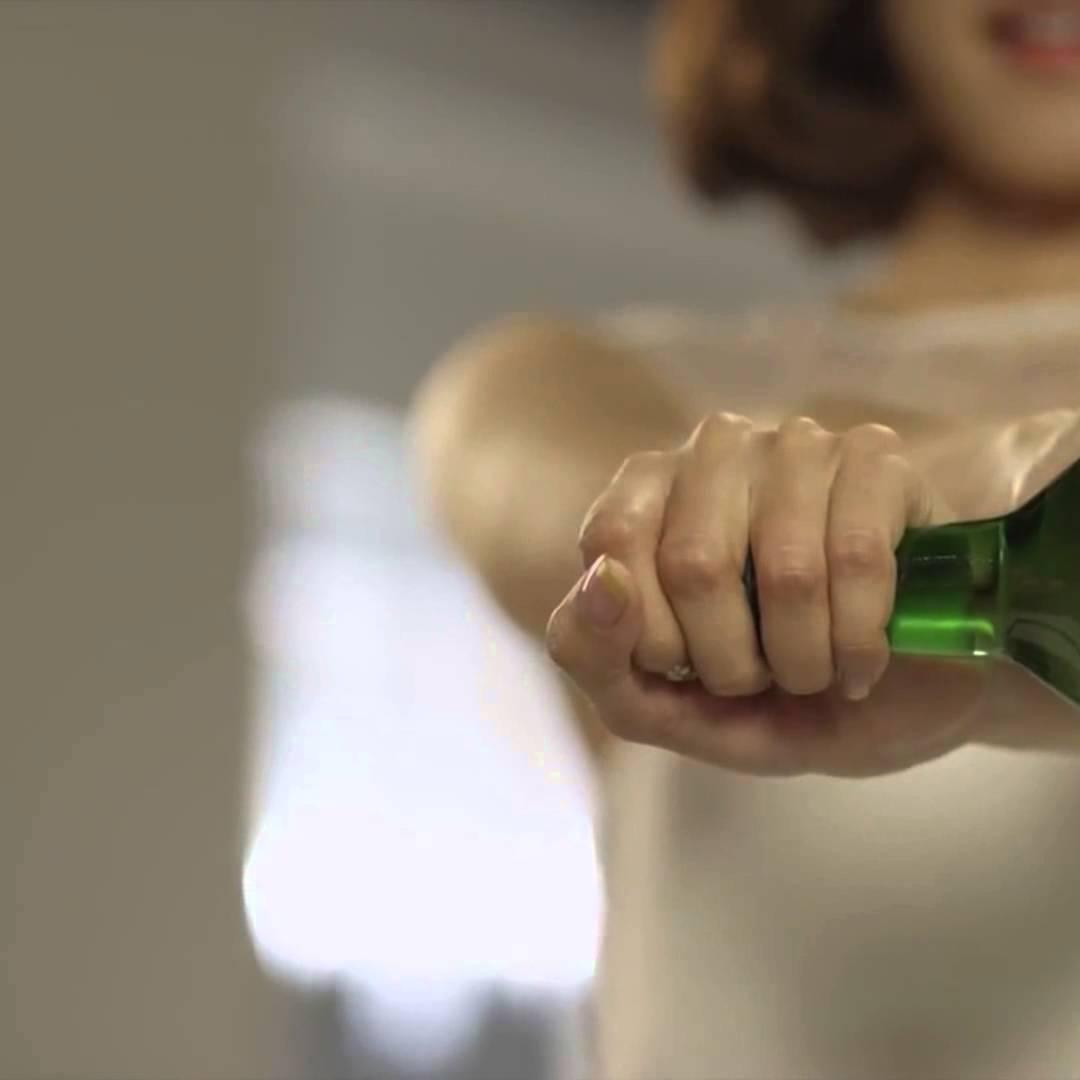soju: (610, 441, 1080, 727)
